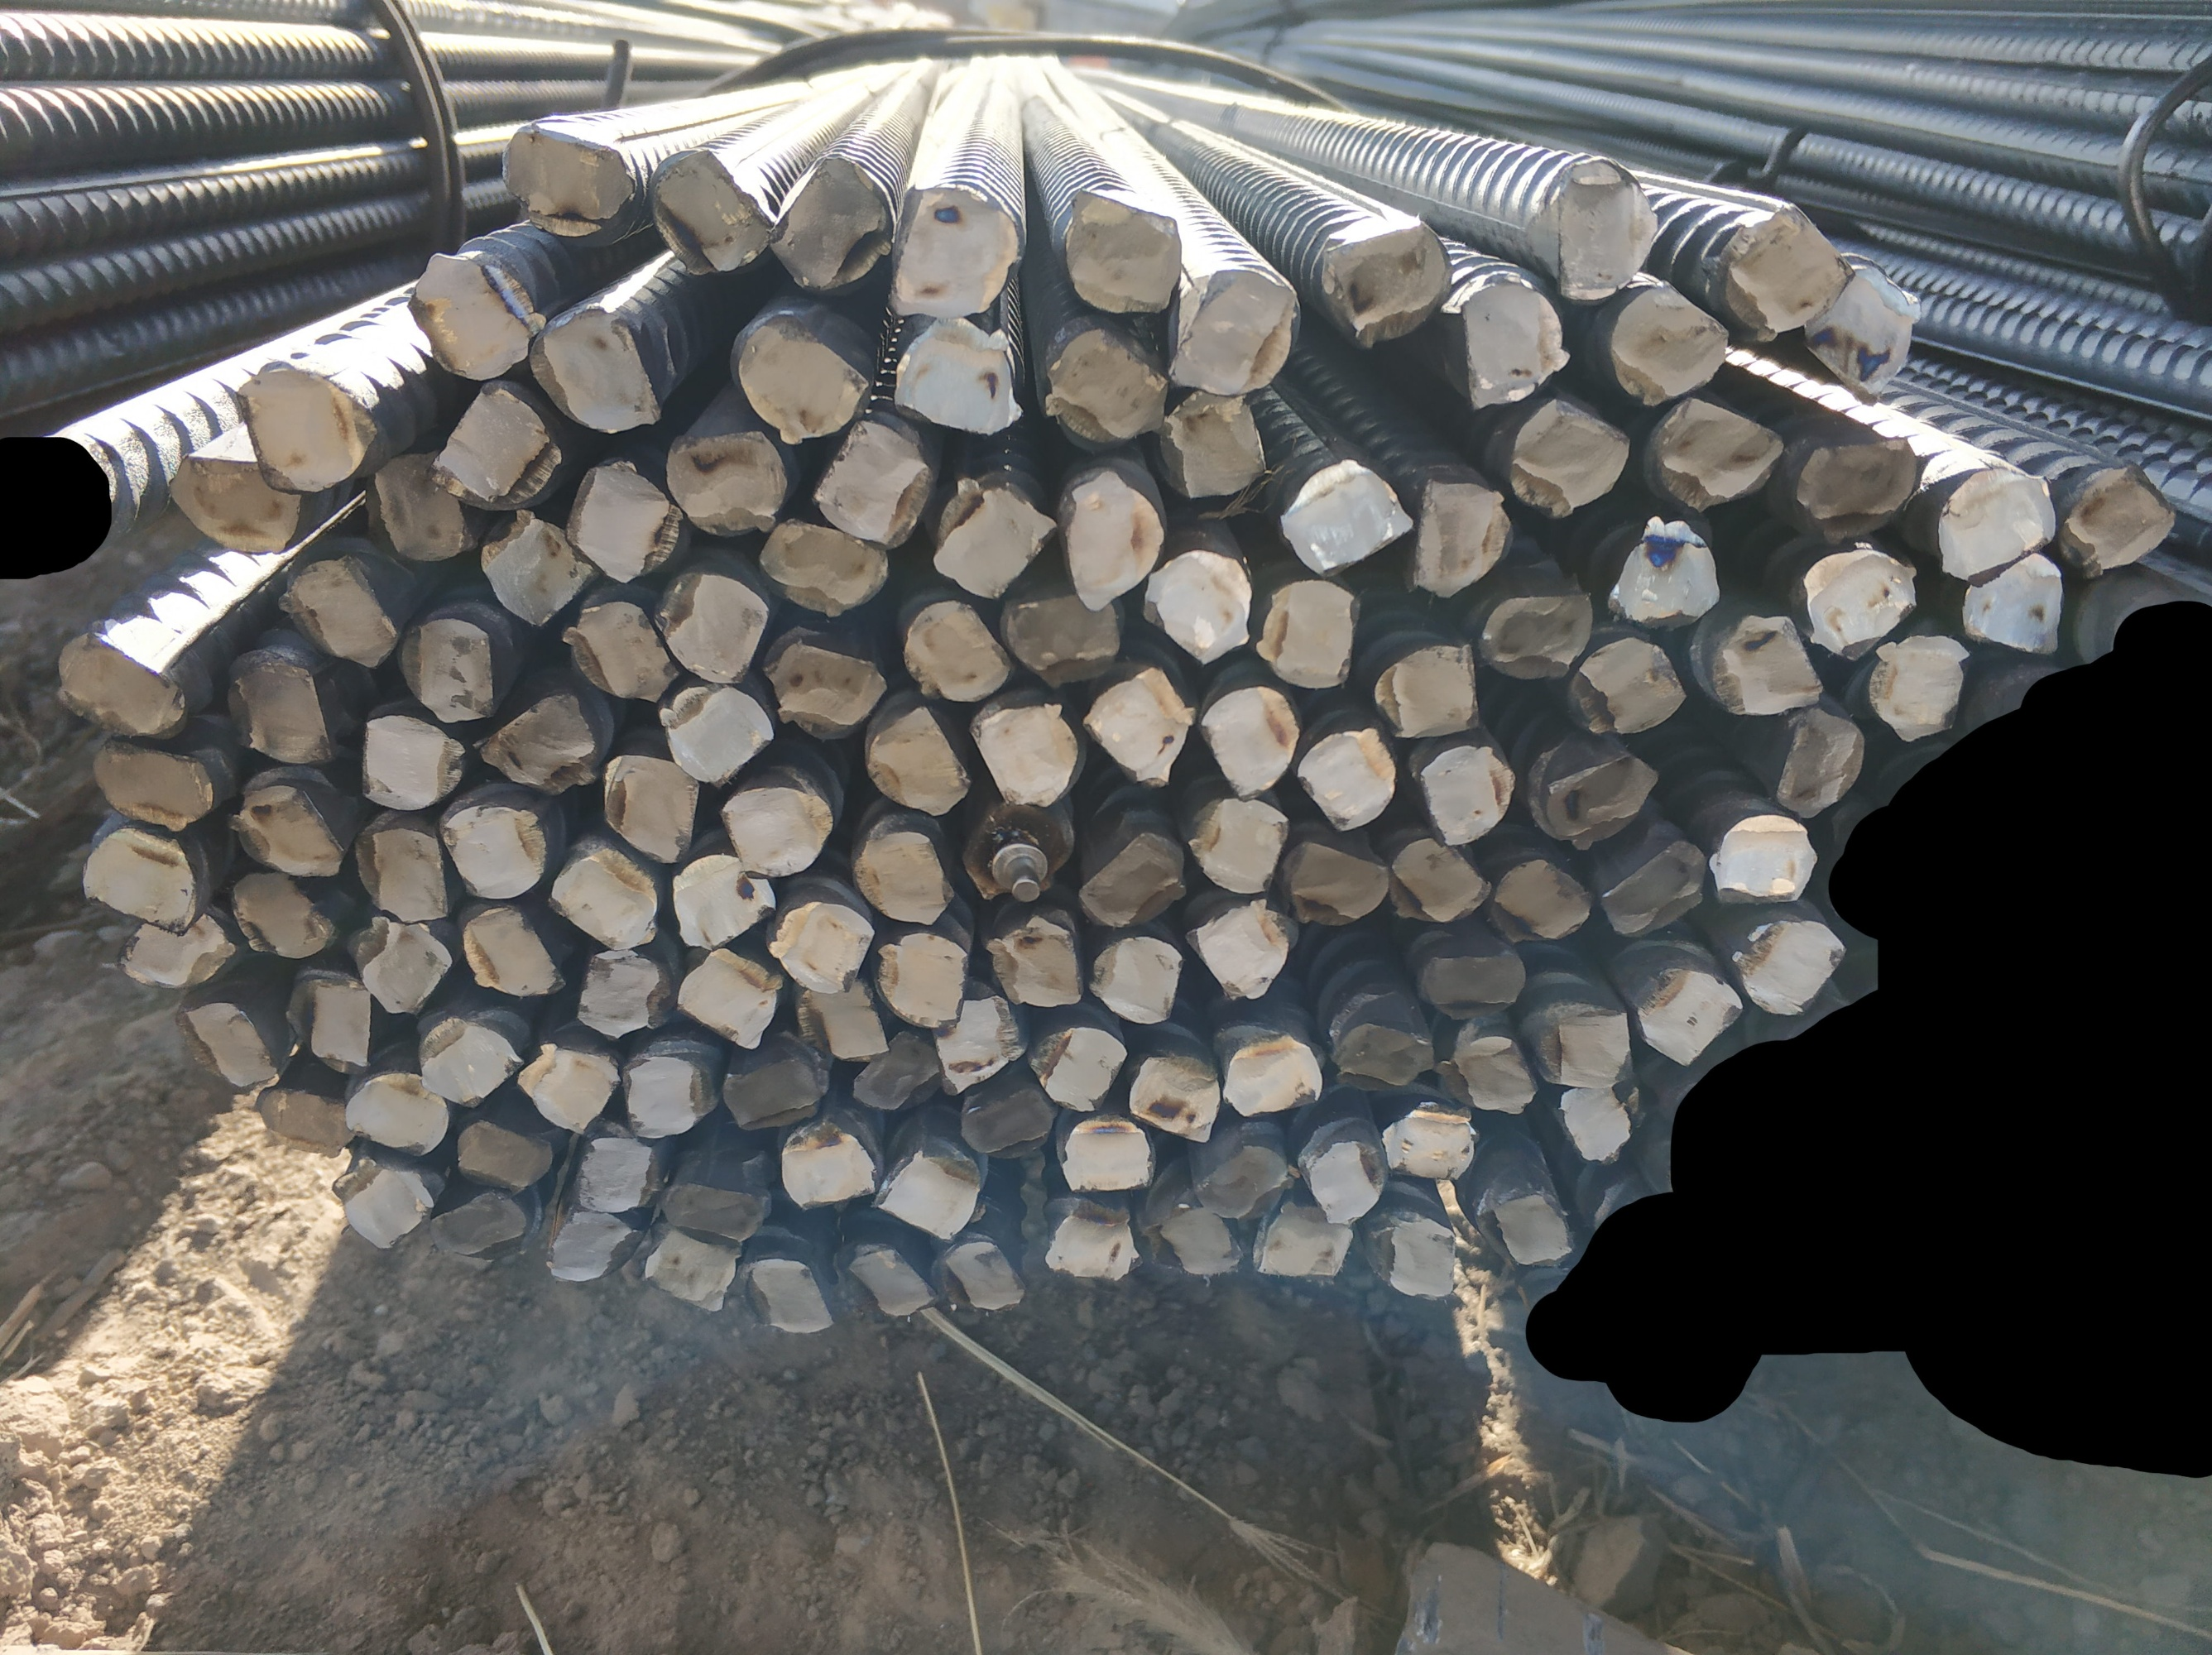rebar: (1708, 196, 1854, 344), (1531, 156, 1670, 301), (240, 351, 377, 497), (891, 183, 1023, 320), (770, 150, 893, 296), (1168, 266, 1303, 398), (424, 382, 563, 509), (525, 306, 660, 435), (1324, 214, 1454, 344), (735, 320, 869, 447), (1279, 459, 1416, 582), (408, 252, 539, 379), (499, 120, 636, 240), (931, 473, 1056, 603), (1063, 186, 1187, 318), (1807, 261, 1920, 405), (1606, 280, 1732, 407), (1934, 462, 2057, 593), (813, 417, 935, 548), (1451, 275, 1569, 409), (1649, 391, 1783, 509), (895, 320, 1027, 436), (1060, 469, 1168, 612), (52, 628, 188, 741), (652, 150, 772, 276), (167, 443, 302, 555), (1043, 325, 1169, 443), (568, 457, 685, 586), (1533, 730, 1656, 848), (1081, 666, 1197, 791), (276, 551, 396, 671), (1510, 398, 1630, 518), (2061, 462, 2179, 584), (480, 506, 594, 629), (1136, 548, 1255, 664), (1798, 549, 1922, 661), (221, 650, 335, 768), (80, 821, 200, 934), (1411, 475, 1515, 603), (1797, 436, 1918, 544), (666, 429, 791, 534), (860, 701, 971, 817), (558, 596, 674, 708), (367, 450, 478, 567), (964, 699, 1081, 810), (478, 690, 596, 800), (1249, 575, 1359, 694), (1606, 515, 1722, 624), (758, 518, 886, 617), (1566, 631, 1685, 737), (996, 593, 1121, 692), (655, 568, 768, 678), (657, 680, 773, 786), (1958, 542, 2064, 659), (551, 840, 662, 949), (1157, 389, 1268, 499), (1710, 608, 1825, 715), (222, 779, 344, 878), (966, 800, 1079, 906), (1201, 683, 1301, 801), (601, 751, 702, 867), (768, 636, 886, 735), (330, 1147, 440, 1253), (674, 944, 780, 1053), (1597, 836, 1708, 940), (1727, 918, 1844, 1017), (356, 708, 464, 814), (92, 741, 214, 834), (1373, 640, 1486, 741), (719, 781, 834, 880), (1632, 965, 1746, 1064), (1077, 827, 1185, 932), (1870, 633, 1972, 742), (436, 803, 549, 902), (905, 598, 1011, 702), (1414, 741, 1517, 848), (669, 852, 778, 951), (1710, 810, 1821, 907), (1771, 706, 1868, 817), (349, 819, 450, 925), (766, 895, 876, 993), (851, 822, 950, 928), (414, 1012, 521, 1109), (874, 1146, 982, 1243), (1300, 725, 1397, 833), (1480, 589, 1595, 680), (349, 914, 450, 1017), (1190, 793, 1293, 894), (169, 994, 275, 1092), (1190, 895, 1289, 998), (400, 619, 495, 725), (874, 930, 973, 1031), (1284, 836, 1390, 930), (111, 911, 236, 989), (518, 1040, 622, 1133), (1023, 1020, 1129, 1113), (1533, 996, 1639, 1088), (464, 902, 566, 996), (228, 869, 334, 960), (933, 987, 1023, 1093), (1388, 833, 1489, 927), (780, 1118, 879, 1212), (1439, 1024, 1538, 1116), (1475, 1179, 1574, 1271), (283, 972, 372, 1074), (1491, 859, 1595, 946), (1089, 932, 1185, 1026), (989, 914, 1083, 1010), (1222, 1031, 1324, 1118), (344, 1073, 450, 1156), (1128, 1052, 1223, 1142), (789, 977, 890, 1062), (1553, 1078, 1649, 1166), (1420, 946, 1533, 1020), (737, 1252, 838, 1335), (645, 1229, 738, 1318), (1376, 1100, 1479, 1180), (853, 1026, 944, 1116), (575, 947, 662, 1041), (1058, 1111, 1154, 1196), (1253, 1205, 1354, 1285), (1301, 1137, 1392, 1226), (957, 1081, 1056, 1161), (1378, 1208, 1465, 1299), (624, 1047, 705, 1142), (662, 1172, 772, 1243), (426, 1187, 530, 1262), (1195, 1139, 1293, 1219), (1044, 1210, 1142, 1288), (721, 1050, 820, 1127), (1333, 1017, 1439, 1088), (846, 1229, 931, 1318), (254, 1085, 356, 1158), (931, 1240, 1029, 1313), (1157, 1208, 1251, 1283), (454, 1120, 554, 1189), (547, 1210, 636, 1288), (573, 1133, 655, 1213)
